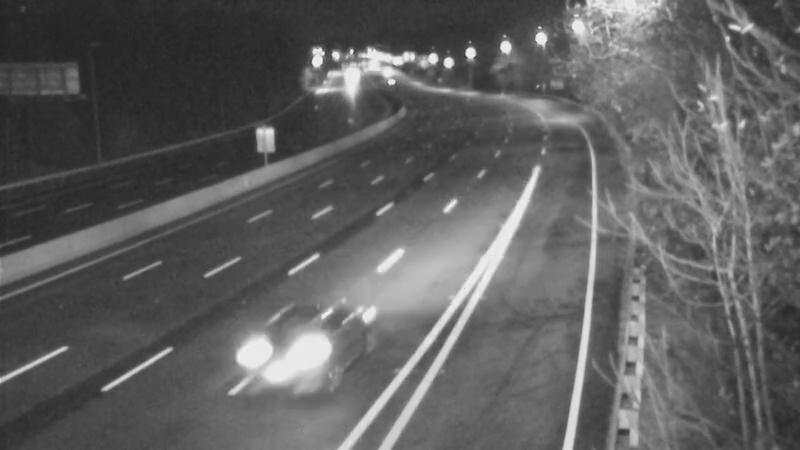vehicle: (225, 292, 335, 402), (326, 55, 376, 105)
